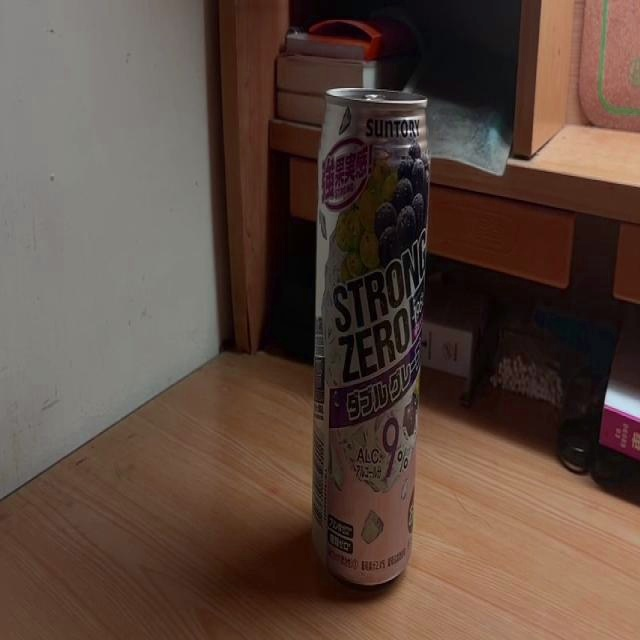Liquor: (315, 88, 429, 586)
